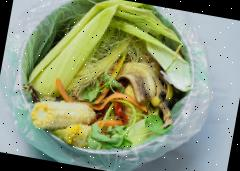organic: (31, 15, 91, 98), (27, 90, 102, 142), (122, 59, 168, 106)
